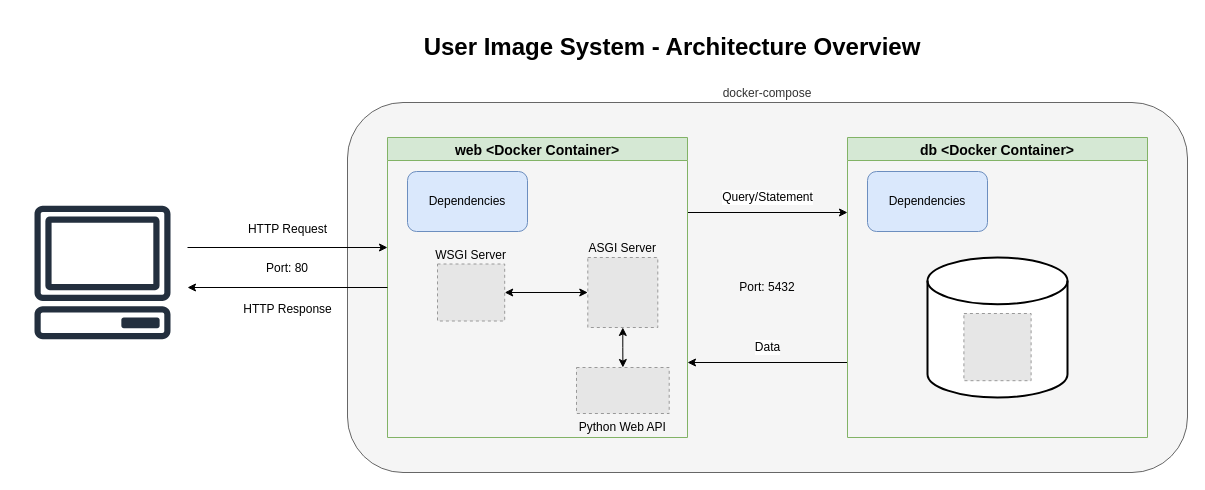
Some shapes in this 1205 by 490 pixel diagram are drawn without their labels. Grey dashed boxes stand in for pictures. Each missing label, with the box of its shape:
Client: (16, 186, 188, 358)
Relational Database: (926, 256, 1068, 398)
